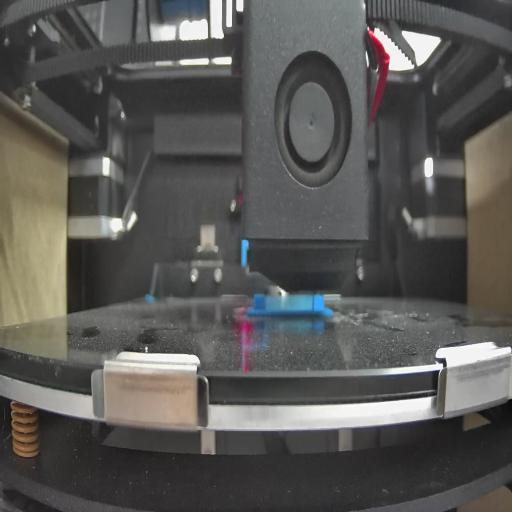stringing: (266, 294, 313, 311)
